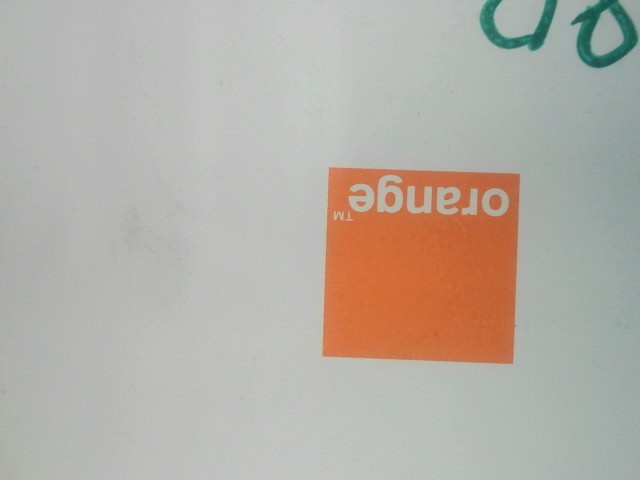AR_Orange: (302, 163, 534, 367)
